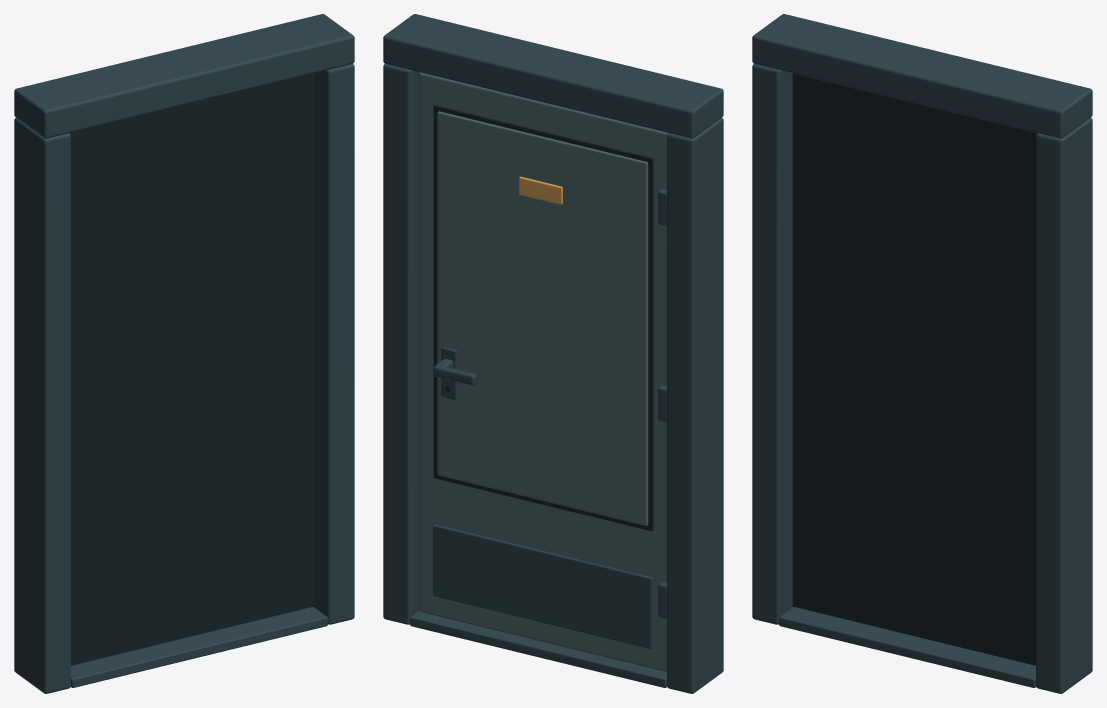
Rendered from city_service_furniture_03.glb.
3 views of the same model, side by side, from view 1: azimuth 30°, elevation 25°; view 2: azimuth 150°, elevation 25°; view 3: azimuth 330°, elevation 25° (orthographic).
Visible parts, largest first — view 1: CityServiceFurniture03_Mesh; view 2: CityServiceFurniture03_Mesh; view 3: CityServiceFurniture03_Mesh.
Part boxes in pixels (x1,y1,x2,y2): CityServiceFurniture03_Mesh: [14, 14, 354, 693]; CityServiceFurniture03_Mesh: [383, 14, 723, 693]; CityServiceFurniture03_Mesh: [752, 14, 1092, 693].
Size of the model in its own units: 1.36 by 2.44 by 0.3.
